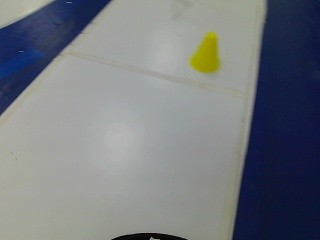cone: (187, 29, 226, 79)
